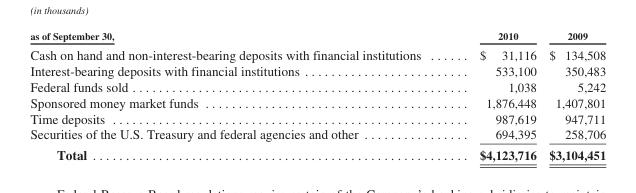table: (29, 29, 605, 162)
table column: (29, 29, 449, 162), (449, 29, 542, 162), (542, 29, 605, 162)
table column header: (29, 29, 605, 44)
table row: (29, 125, 605, 144), (29, 44, 605, 62), (29, 144, 605, 162), (29, 62, 605, 78), (29, 78, 605, 94), (29, 94, 605, 110), (29, 29, 605, 44), (29, 110, 605, 125)
